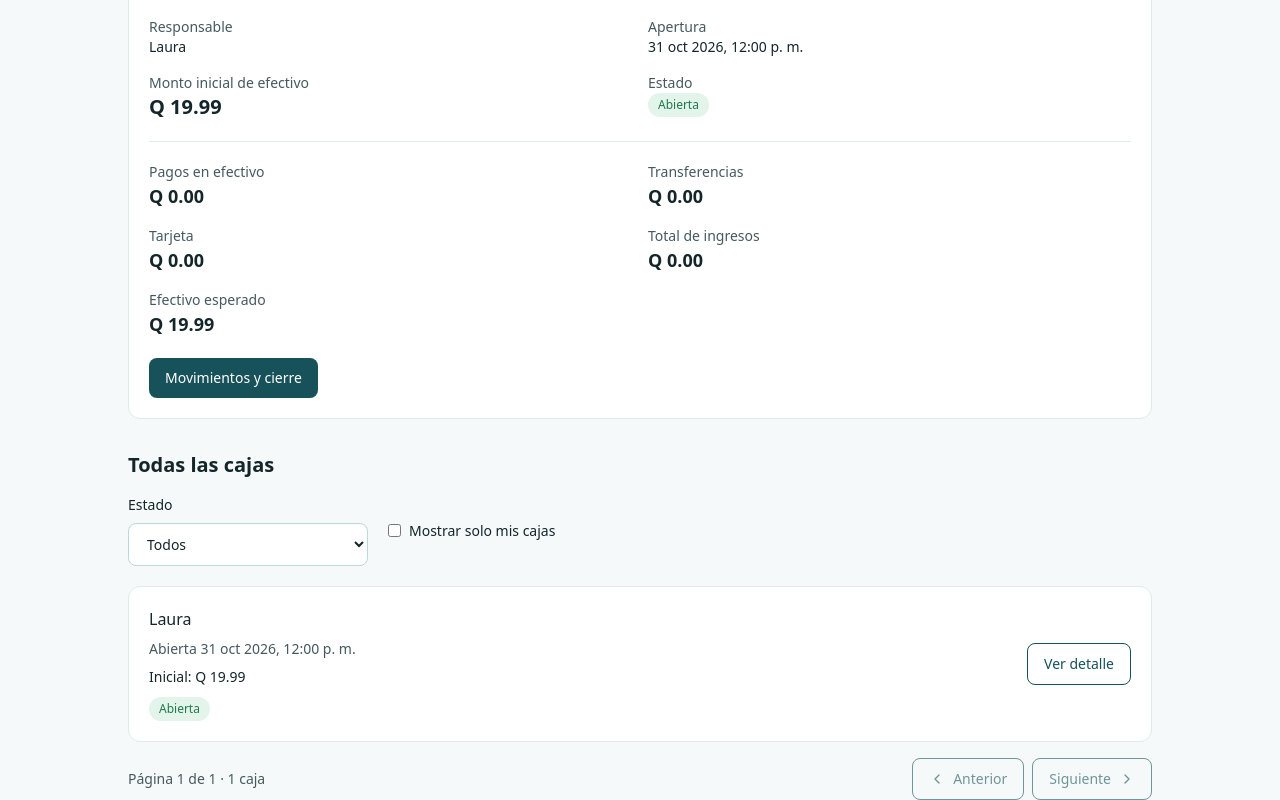
Test case: administrador consulta todas y recepción solo las suyas
(page scrolled)
Expected: the heading "Todas las cajas" is shown, x1=128 y1=451 x2=274 y2=478
Expected: the checkbox labelled "Mostrar solo mis cajas" is shown, x1=388 y1=524 x2=401 y2=537
What coordinates should you click on to do the following:
click the button with aria-label "Ver caja de Laura"
I would click on:
 (1079, 664)
Its box is x1=1027 y1=643 x2=1131 y2=685.
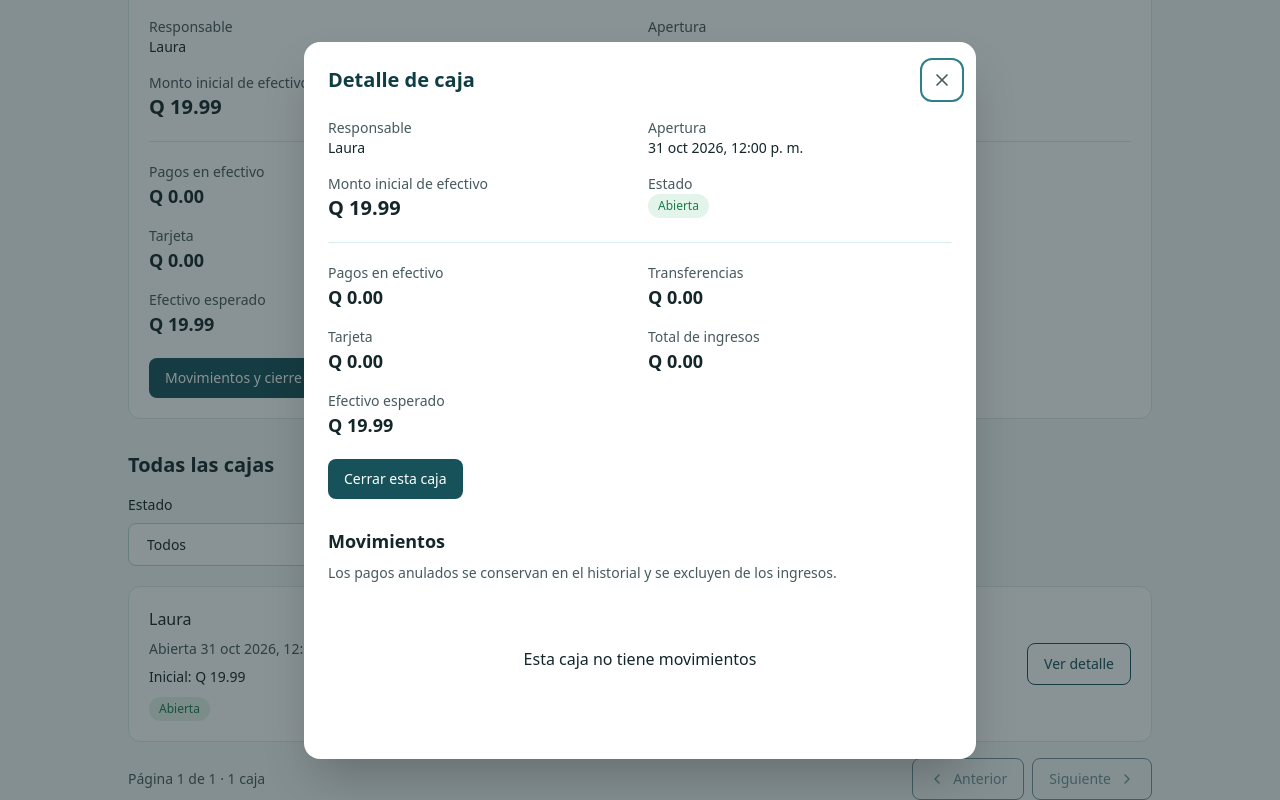
Now the dialog "Detalle de caja" is shown, box x1=304 y1=42 x2=976 y2=758
